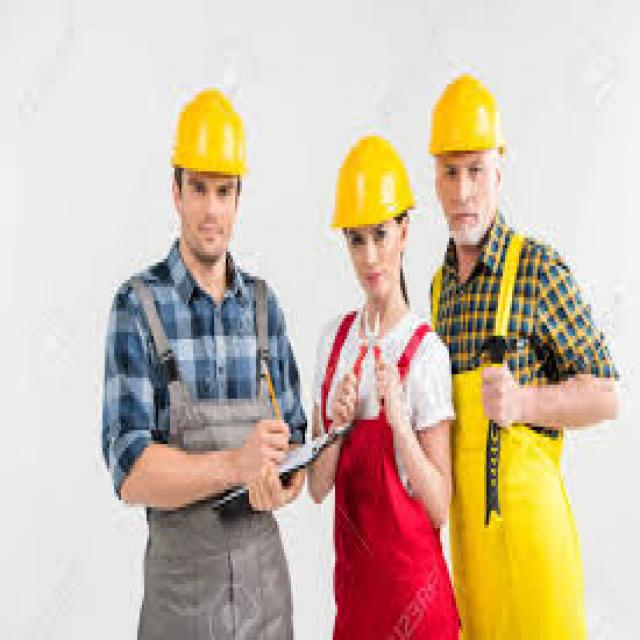Safety-Helmet: (326, 129, 419, 238), (165, 84, 254, 189), (426, 70, 510, 161)
